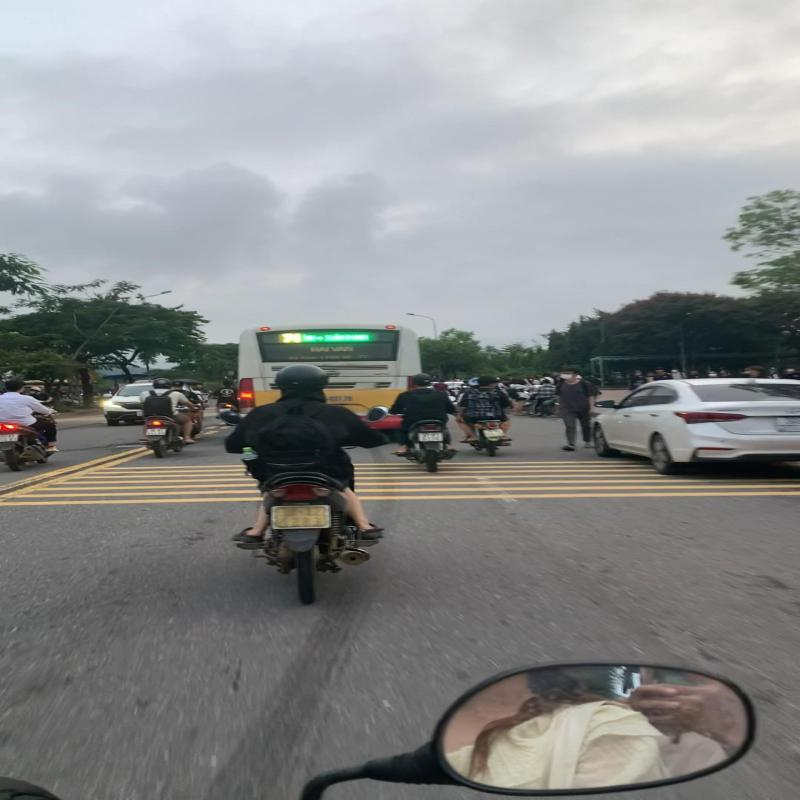nohelmet: (476, 374, 499, 388)
